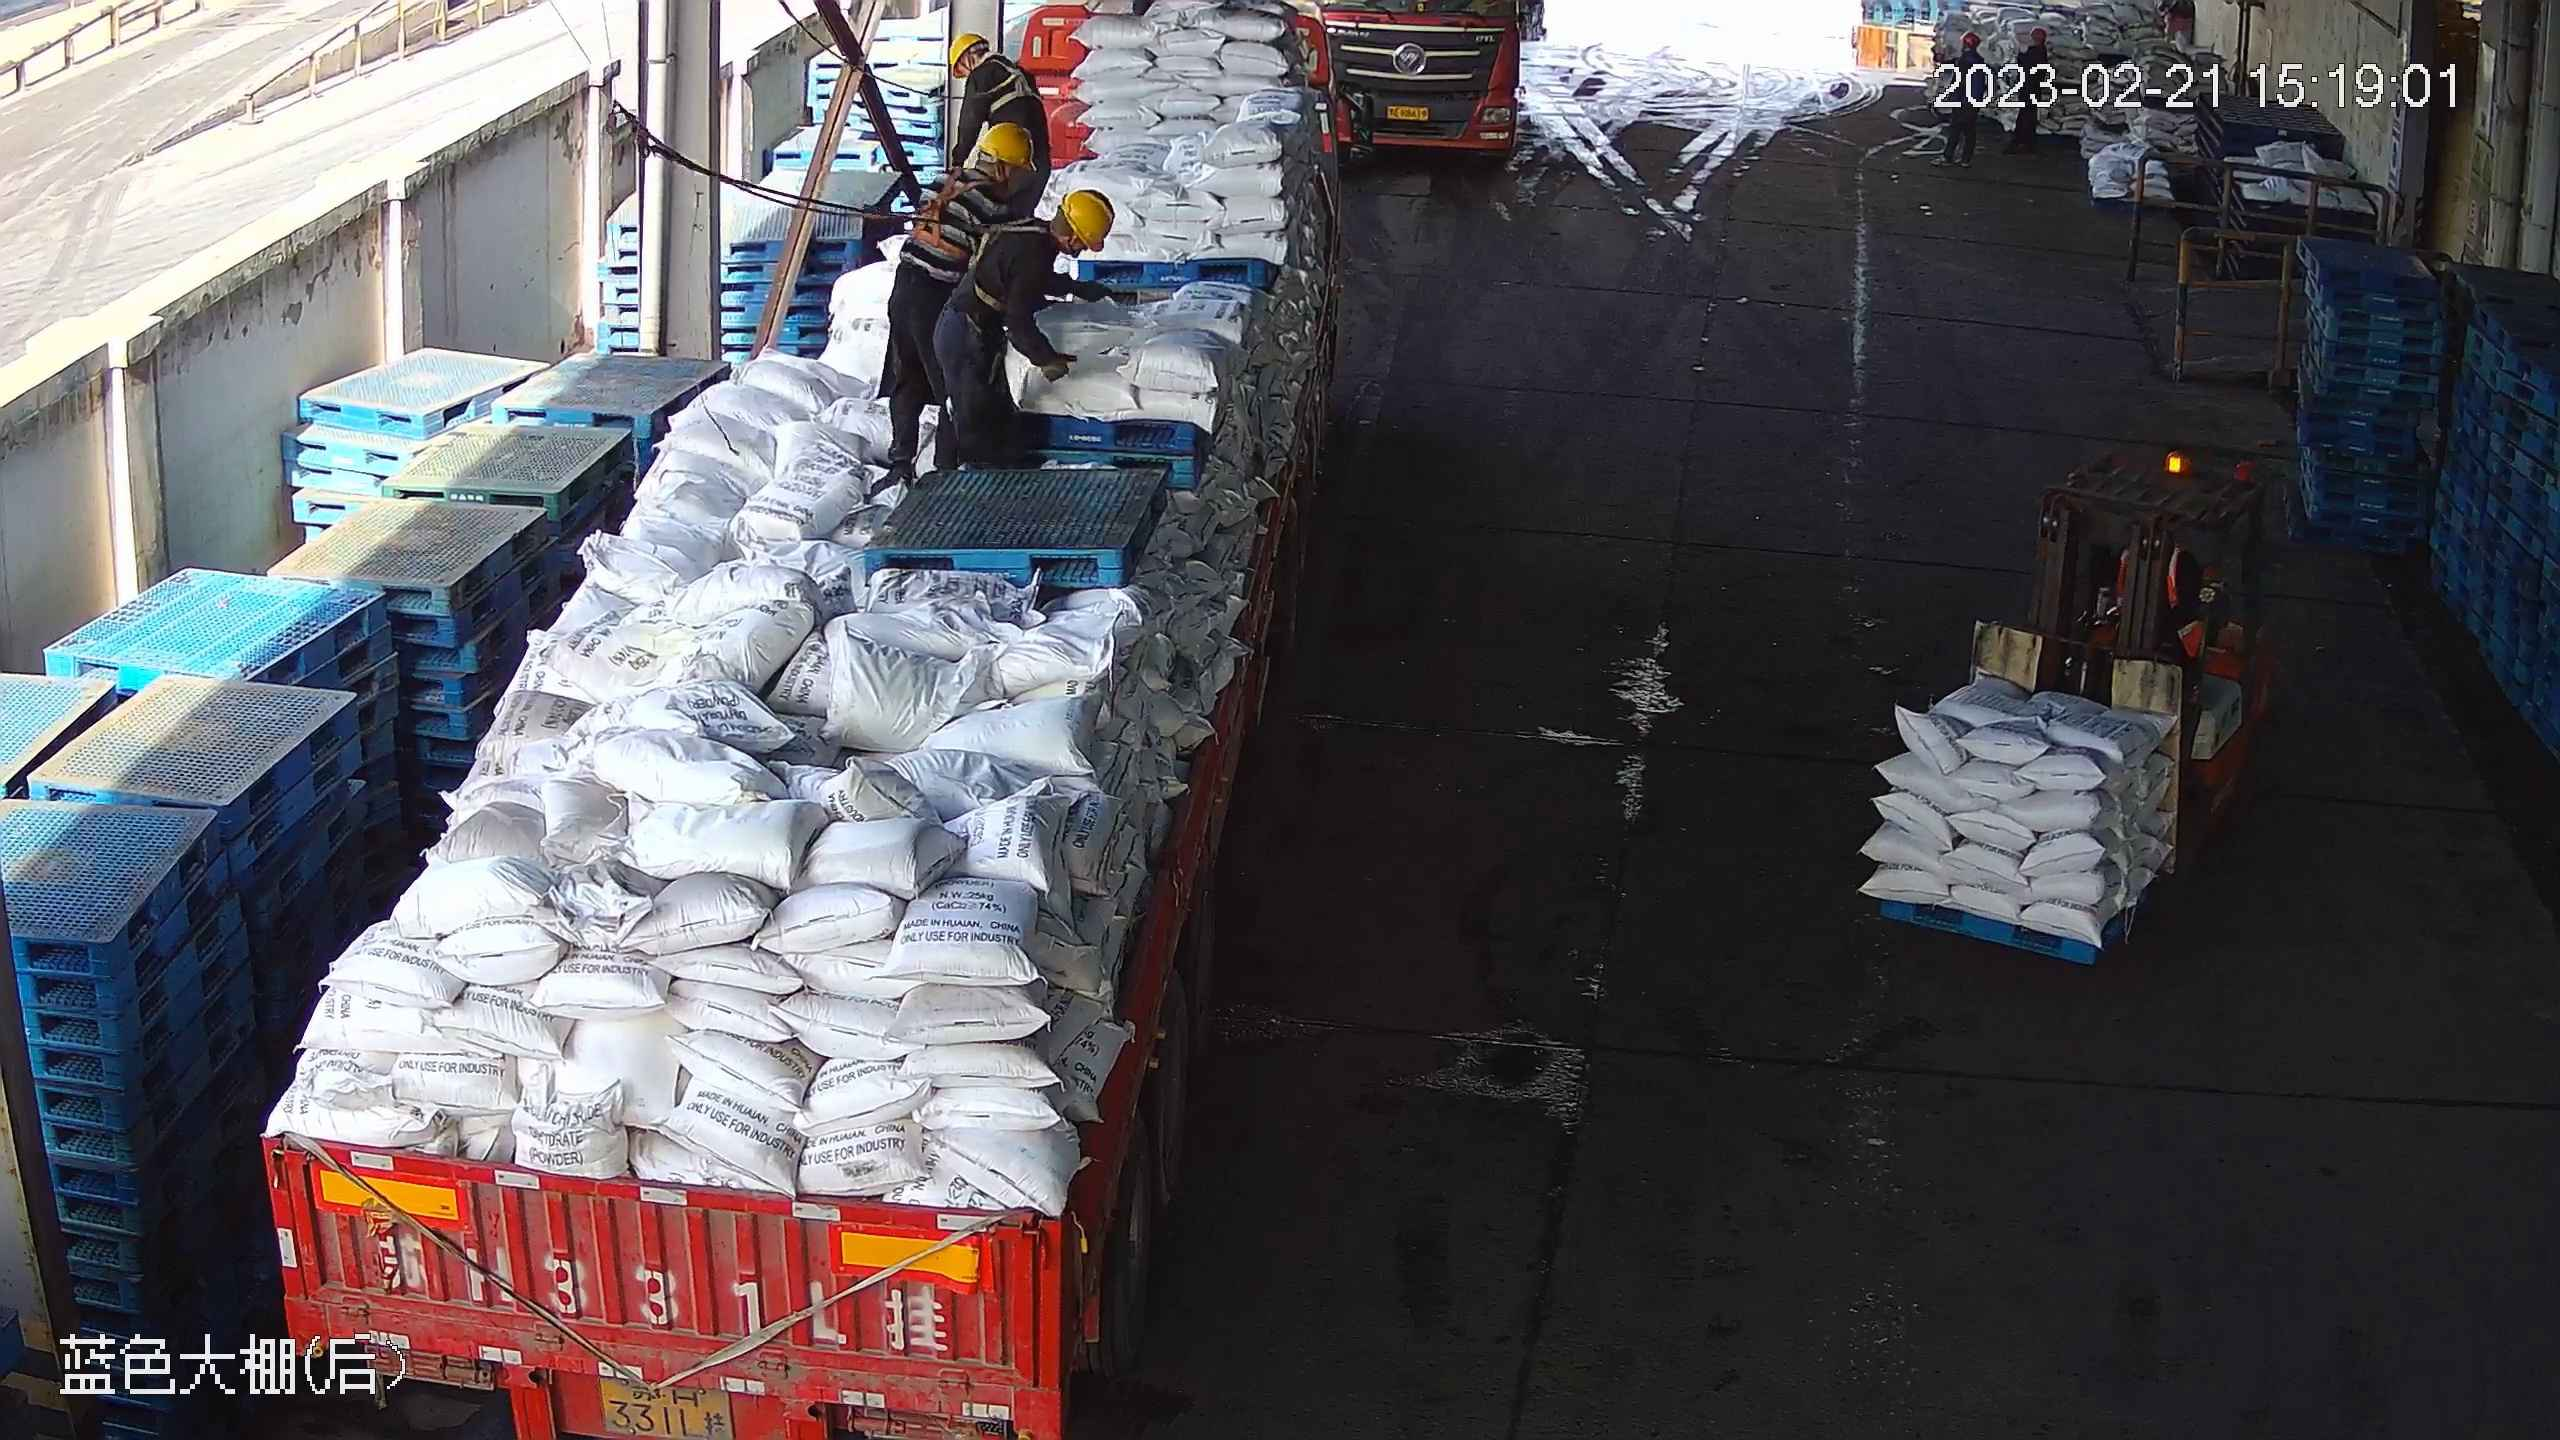belt: (966, 218, 1063, 315), (915, 173, 975, 241), (986, 57, 1053, 110)
head: (984, 187, 1111, 290), (922, 125, 1026, 228), (956, 37, 1036, 104)
helmet: (1056, 188, 1113, 249), (980, 122, 1040, 169), (940, 29, 998, 70)
people: (942, 181, 1122, 470)
truck: (246, 12, 1351, 1432), (1321, 1, 1536, 177)
